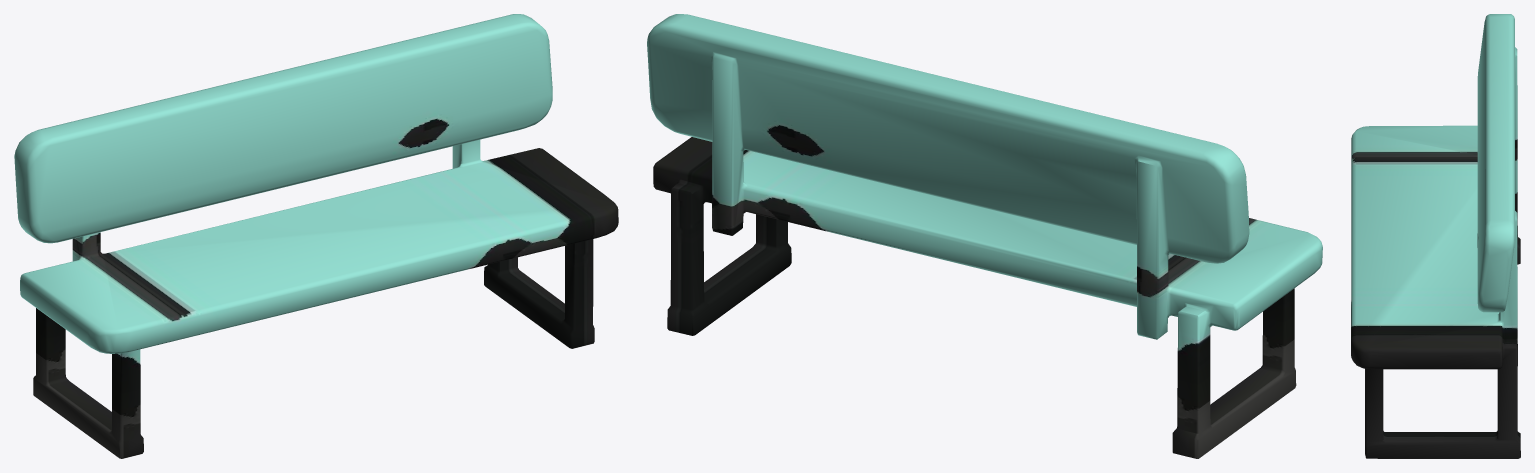
3 renders of one model, left to right at view 1: azimuth 30°, elevation 25°; view 2: azimuth 150°, elevation 25°; view 3: azimuth 270°, elevation 25°, orthographic. The views are drawn at different scales.
Visible parts, largest first — view 1: Decor_gym_team_bench; view 2: Decor_gym_team_bench; view 3: Decor_gym_team_bench.
Part boxes in pixels (x1,y1,x2,y2): Decor_gym_team_bench: (14,14,618,458); Decor_gym_team_bench: (647,14,1322,458); Decor_gym_team_bench: (1351,14,1520,458).
Bounding box in the file's own units: 1.82 × 0.9 × 0.5791.
1 material, 1 textured.
